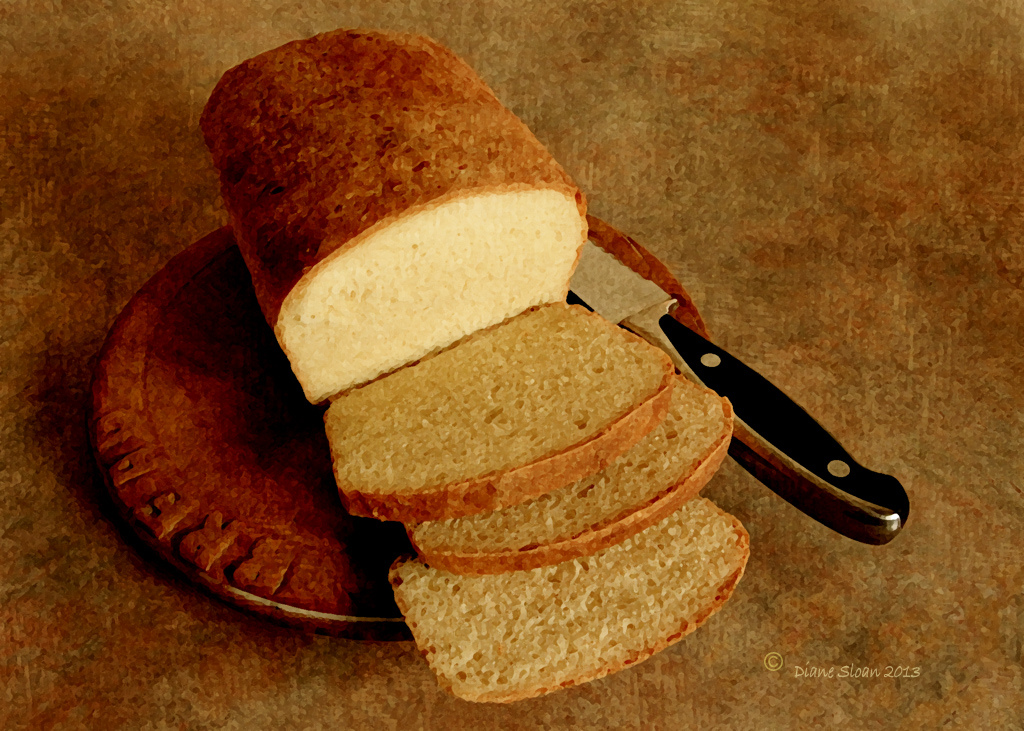slice of bread: (190, 76, 618, 383), (333, 303, 649, 517), (403, 508, 753, 691), (415, 379, 735, 572)
